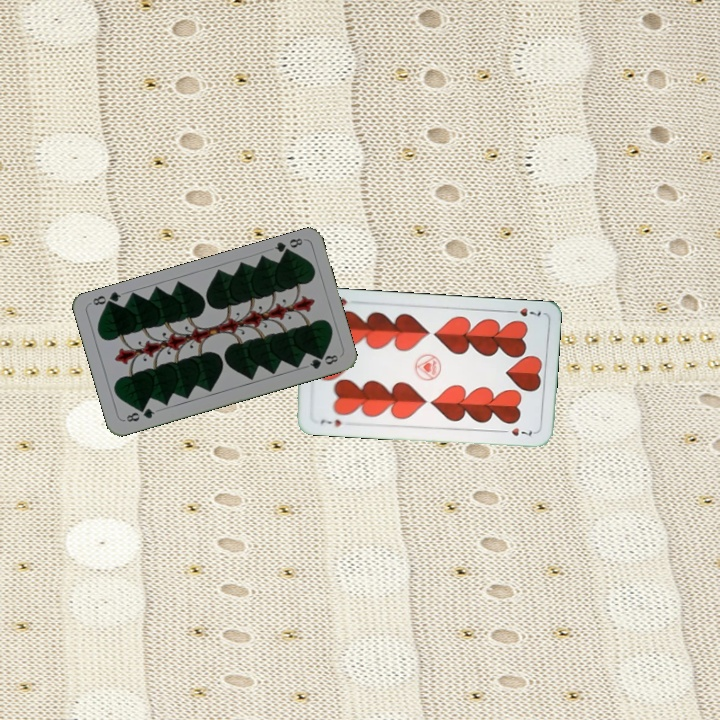G8: (270, 234, 305, 259), (122, 404, 157, 425)
H7: (505, 304, 543, 319), (316, 415, 344, 429)
